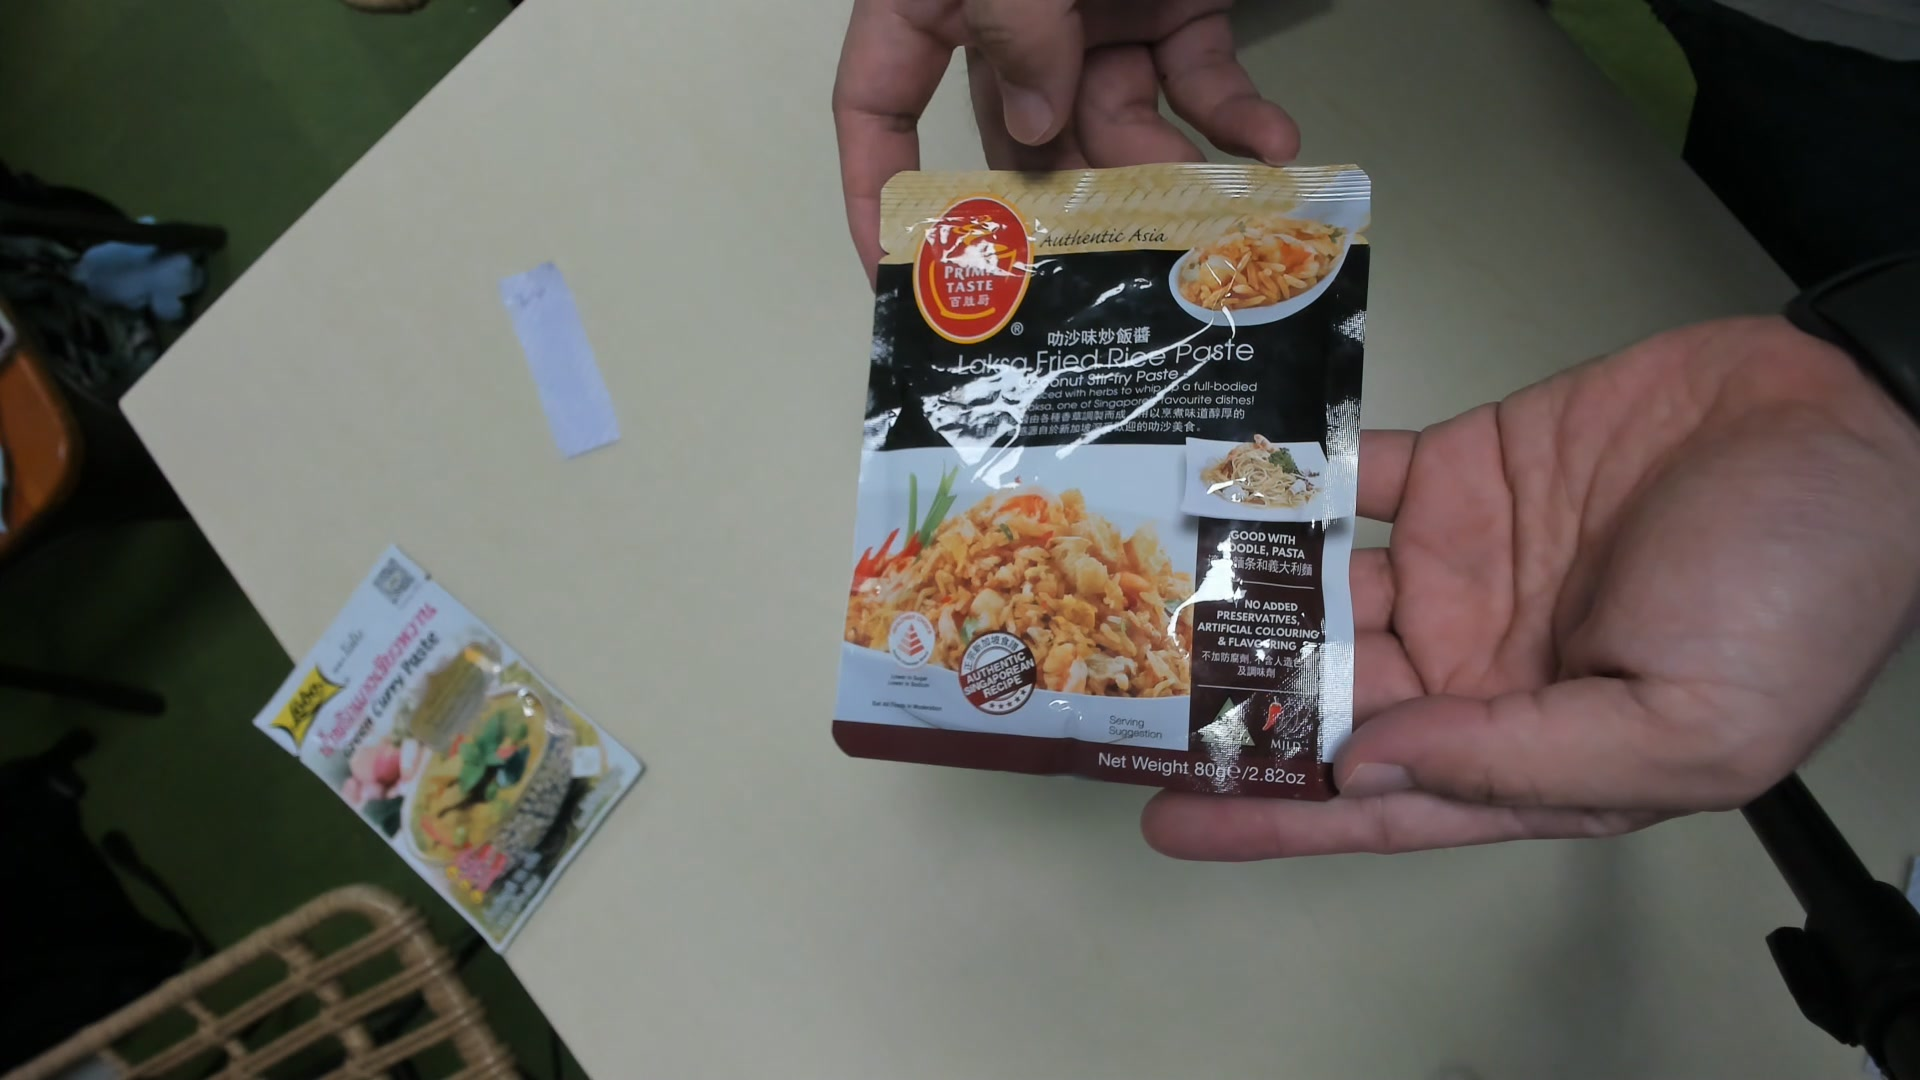OtherSauceDressing_0-99g_Halal_NonHealthy: (827, 152, 1367, 796)
